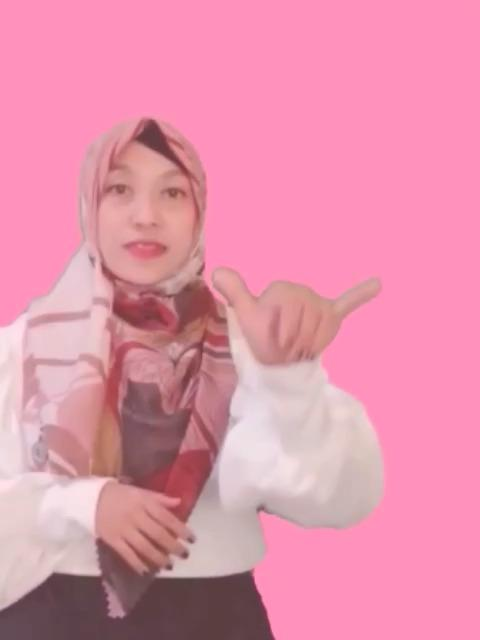Y: (205, 264, 389, 376)
